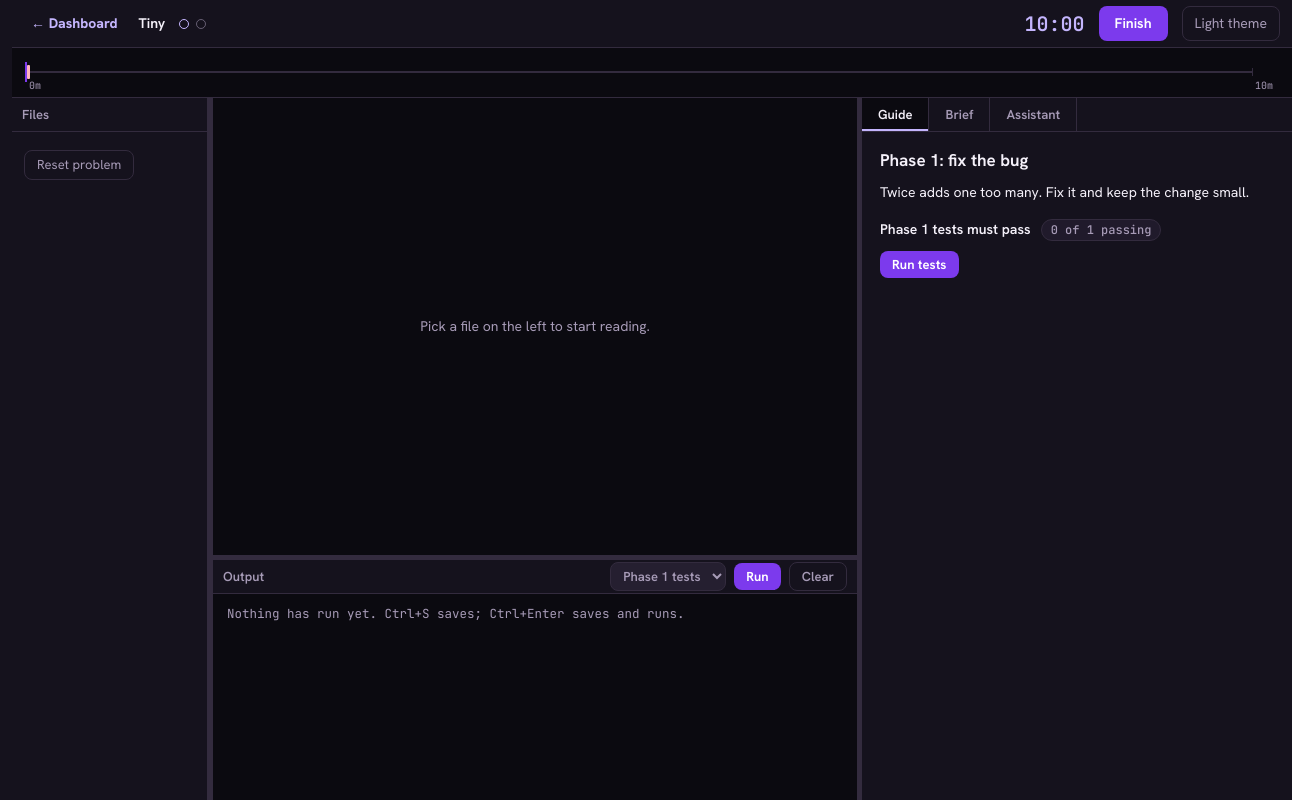
Test case: the Guide tab › runs the phase tests and shows the output in the tab too
Click the button "Run tests" at (919, 264), box [880,250,958,278]
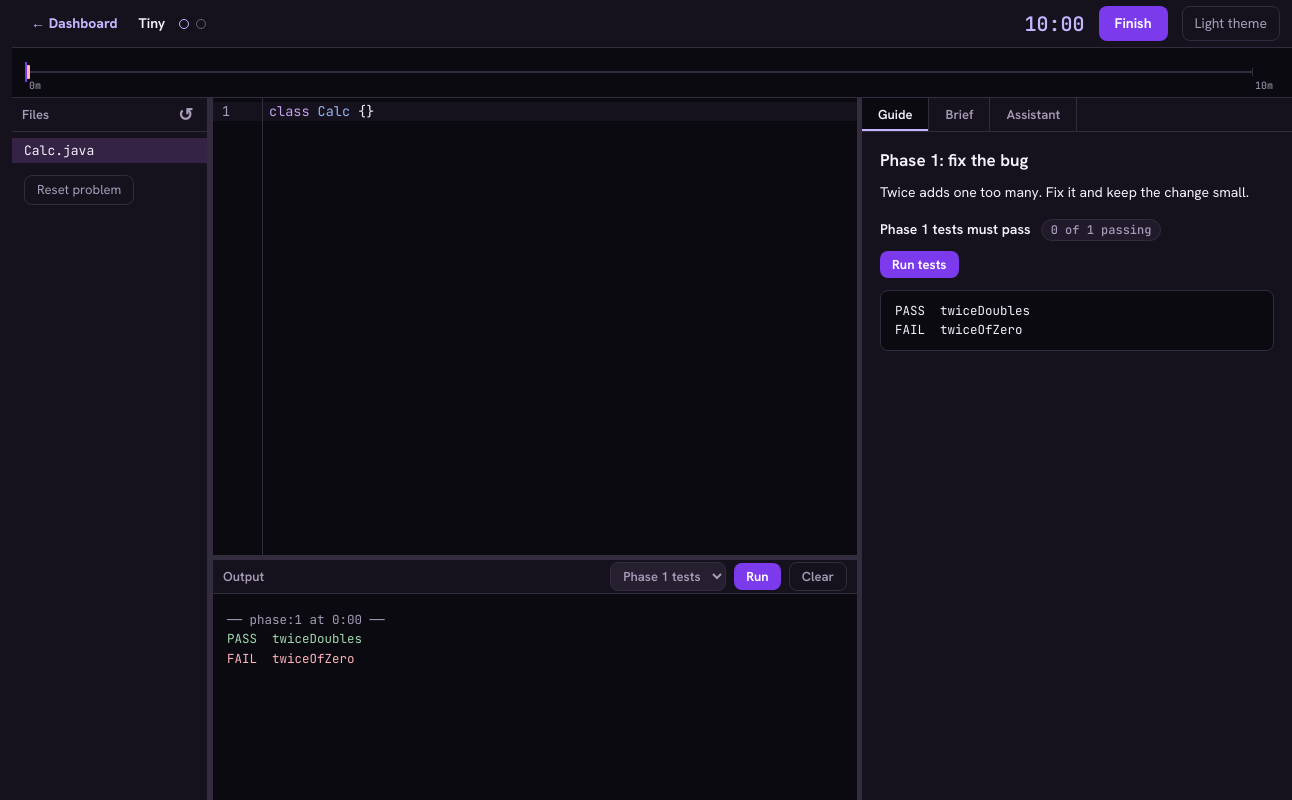
Now the text "PASS twiceDoubles FAIL twiceOfZero" is shown, box [880,290,1274,351]
